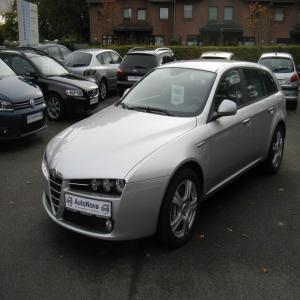Vehicle-registration-plate: (66, 194, 112, 217), (28, 113, 43, 124), (91, 97, 99, 105)
